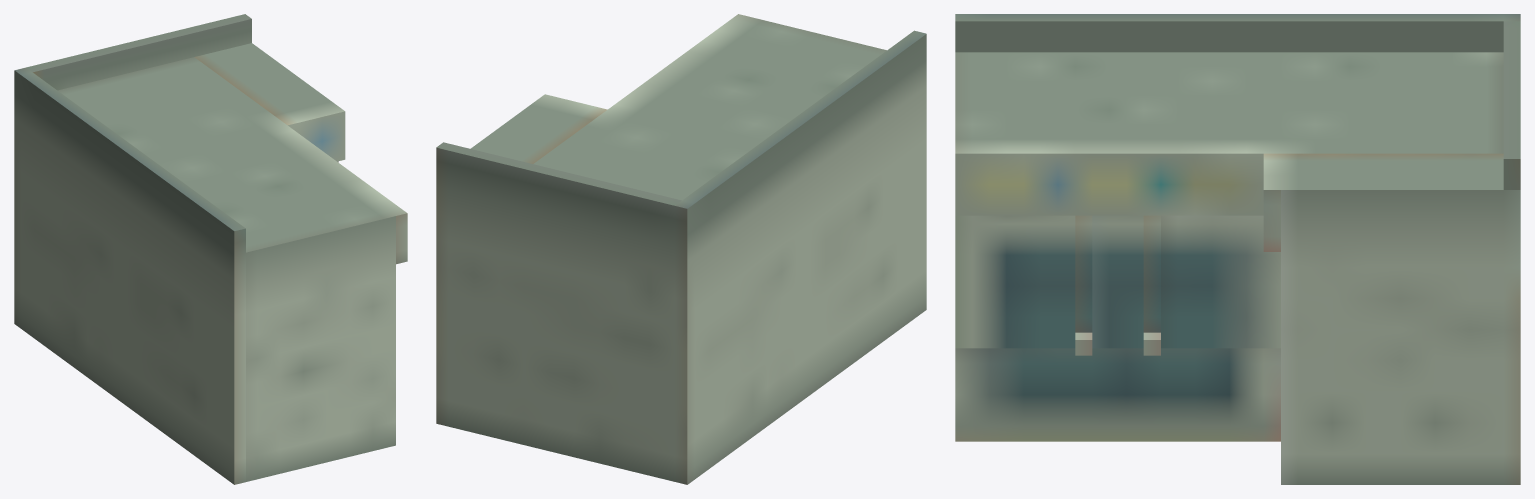
File: CountertopCabinetGreenLShape_00.obj
3 views of the same model, side by side, from view 1: azimuth 30°, elevation 25°; view 2: azimuth 150°, elevation 25°; view 3: azimuth 270°, elevation 25° (orthographic). The views are drawn at different scales.
Parts seen in each view (by area): view 1: CountertopCabinetGreenLShape_00; view 2: CountertopCabinetGreenLShape_00; view 3: CountertopCabinetGreenLShape_00.
Part boxes in pixels (x1=…): CountertopCabinetGreenLShape_00: x1=14, y1=14, x2=407, y2=484; CountertopCabinetGreenLShape_00: x1=436, y1=14, x2=926, y2=484; CountertopCabinetGreenLShape_00: x1=955, y1=14, x2=1520, y2=484.
Size of the model in its own units: 1 by 1.05 by 1.65.
